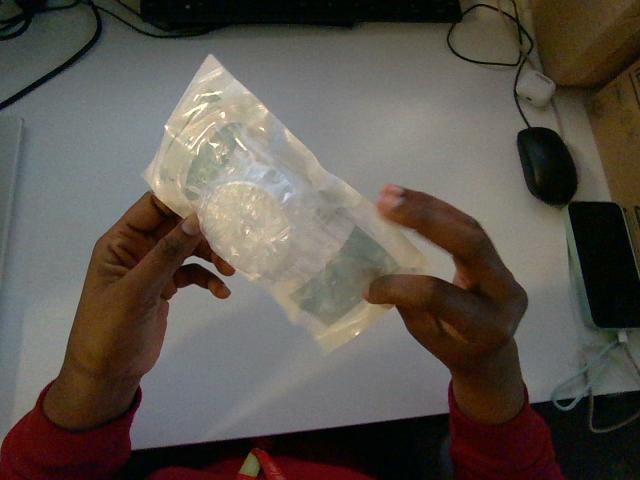gallipot: (144, 56, 425, 350)
